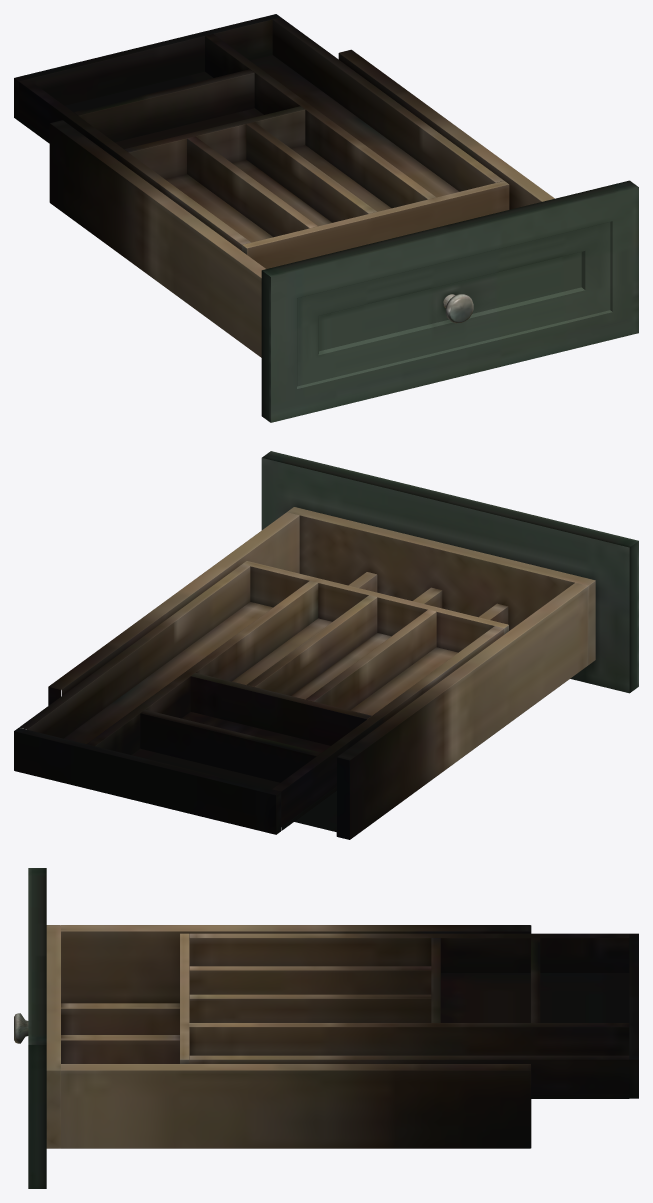
The model's file is Drawer_Top_Right.gltf.
3 views of the same model, one above another, from view 1: azimuth 30°, elevation 25°; view 2: azimuth 150°, elevation 25°; view 3: azimuth 270°, elevation 25° (orthographic).
Parts seen in each view (by area): view 1: Drawer_Top_Right; view 2: Drawer_Top_Right; view 3: Drawer_Top_Right.
Part boxes in pixels (<box>): Drawer_Top_Right: <box>14,14,638,422</box>; Drawer_Top_Right: <box>14,451,638,839</box>; Drawer_Top_Right: <box>14,868,638,1188</box>.
Size of the model in its own units: 443 by 168 by 661.
Materials: 3 (3 with a texture image).
